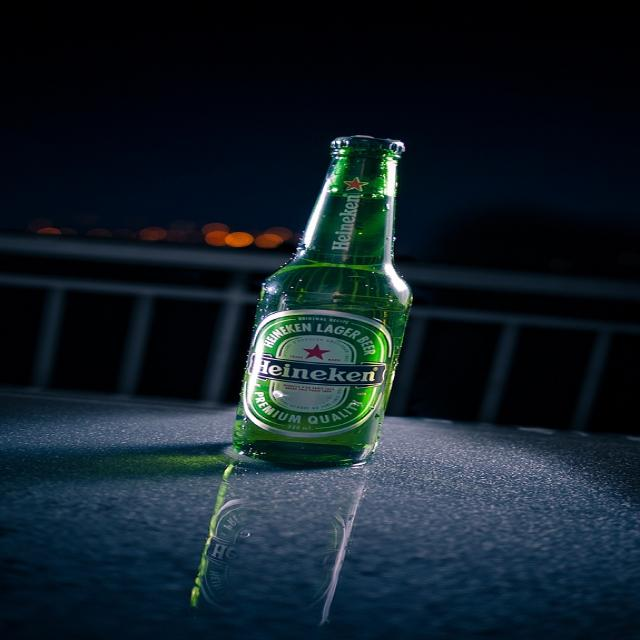heineken: (241, 311, 394, 437)
